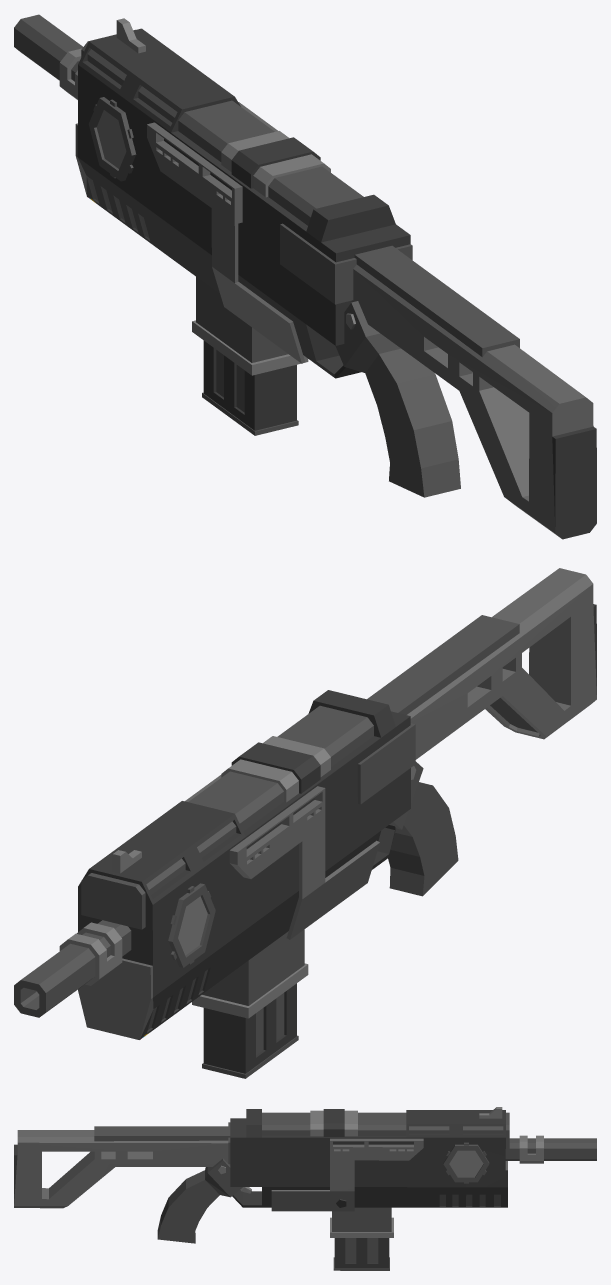
Rendered from fusil_3.glb.
3 views of the same model, one above another, from view 1: azimuth 30°, elevation 25°; view 2: azimuth 150°, elevation 25°; view 3: azimuth 270°, elevation 25° (orthographic). The views are drawn at different scales.
Parts seen in each view (by area): view 1: fusil_3, fusil_charguer_3; view 2: fusil_3, fusil_charguer_3; view 3: fusil_3, fusil_charguer_3.
Part boxes in pixels (x1,y1,x2,y2): fusil_3: (14, 14, 596, 539); fusil_charguer_3: (202, 340, 298, 435); fusil_3: (14, 568, 596, 1039); fusil_charguer_3: (202, 983, 298, 1078); fusil_3: (14, 1107, 596, 1243); fusil_charguer_3: (333, 1238, 389, 1270).
Size of the model in its own units: 0.3327 by 1.02 by 3.42.
1 material, 1 textured.
